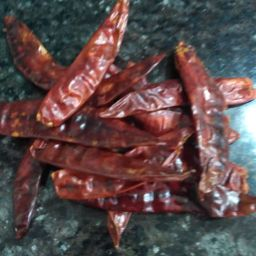Chiptole pepper: (123, 49, 256, 236), (42, 134, 203, 242), (9, 87, 166, 164), (63, 5, 137, 124), (2, 7, 66, 98), (13, 141, 51, 247)
